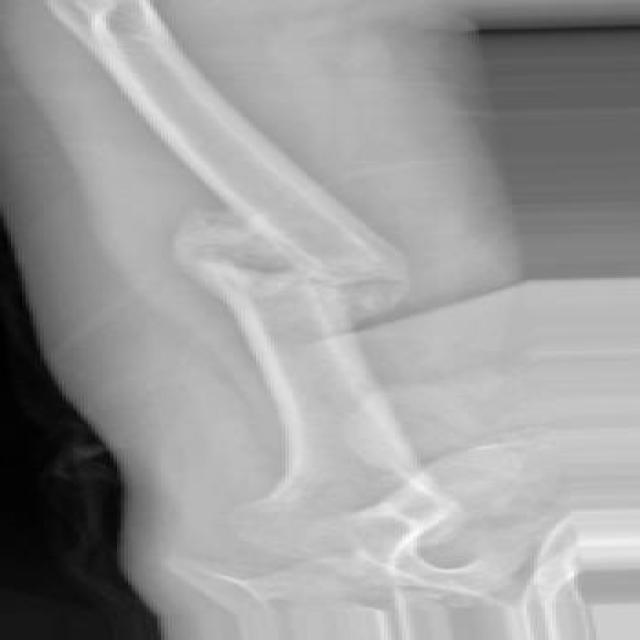Fracture: (152, 198, 432, 316)
